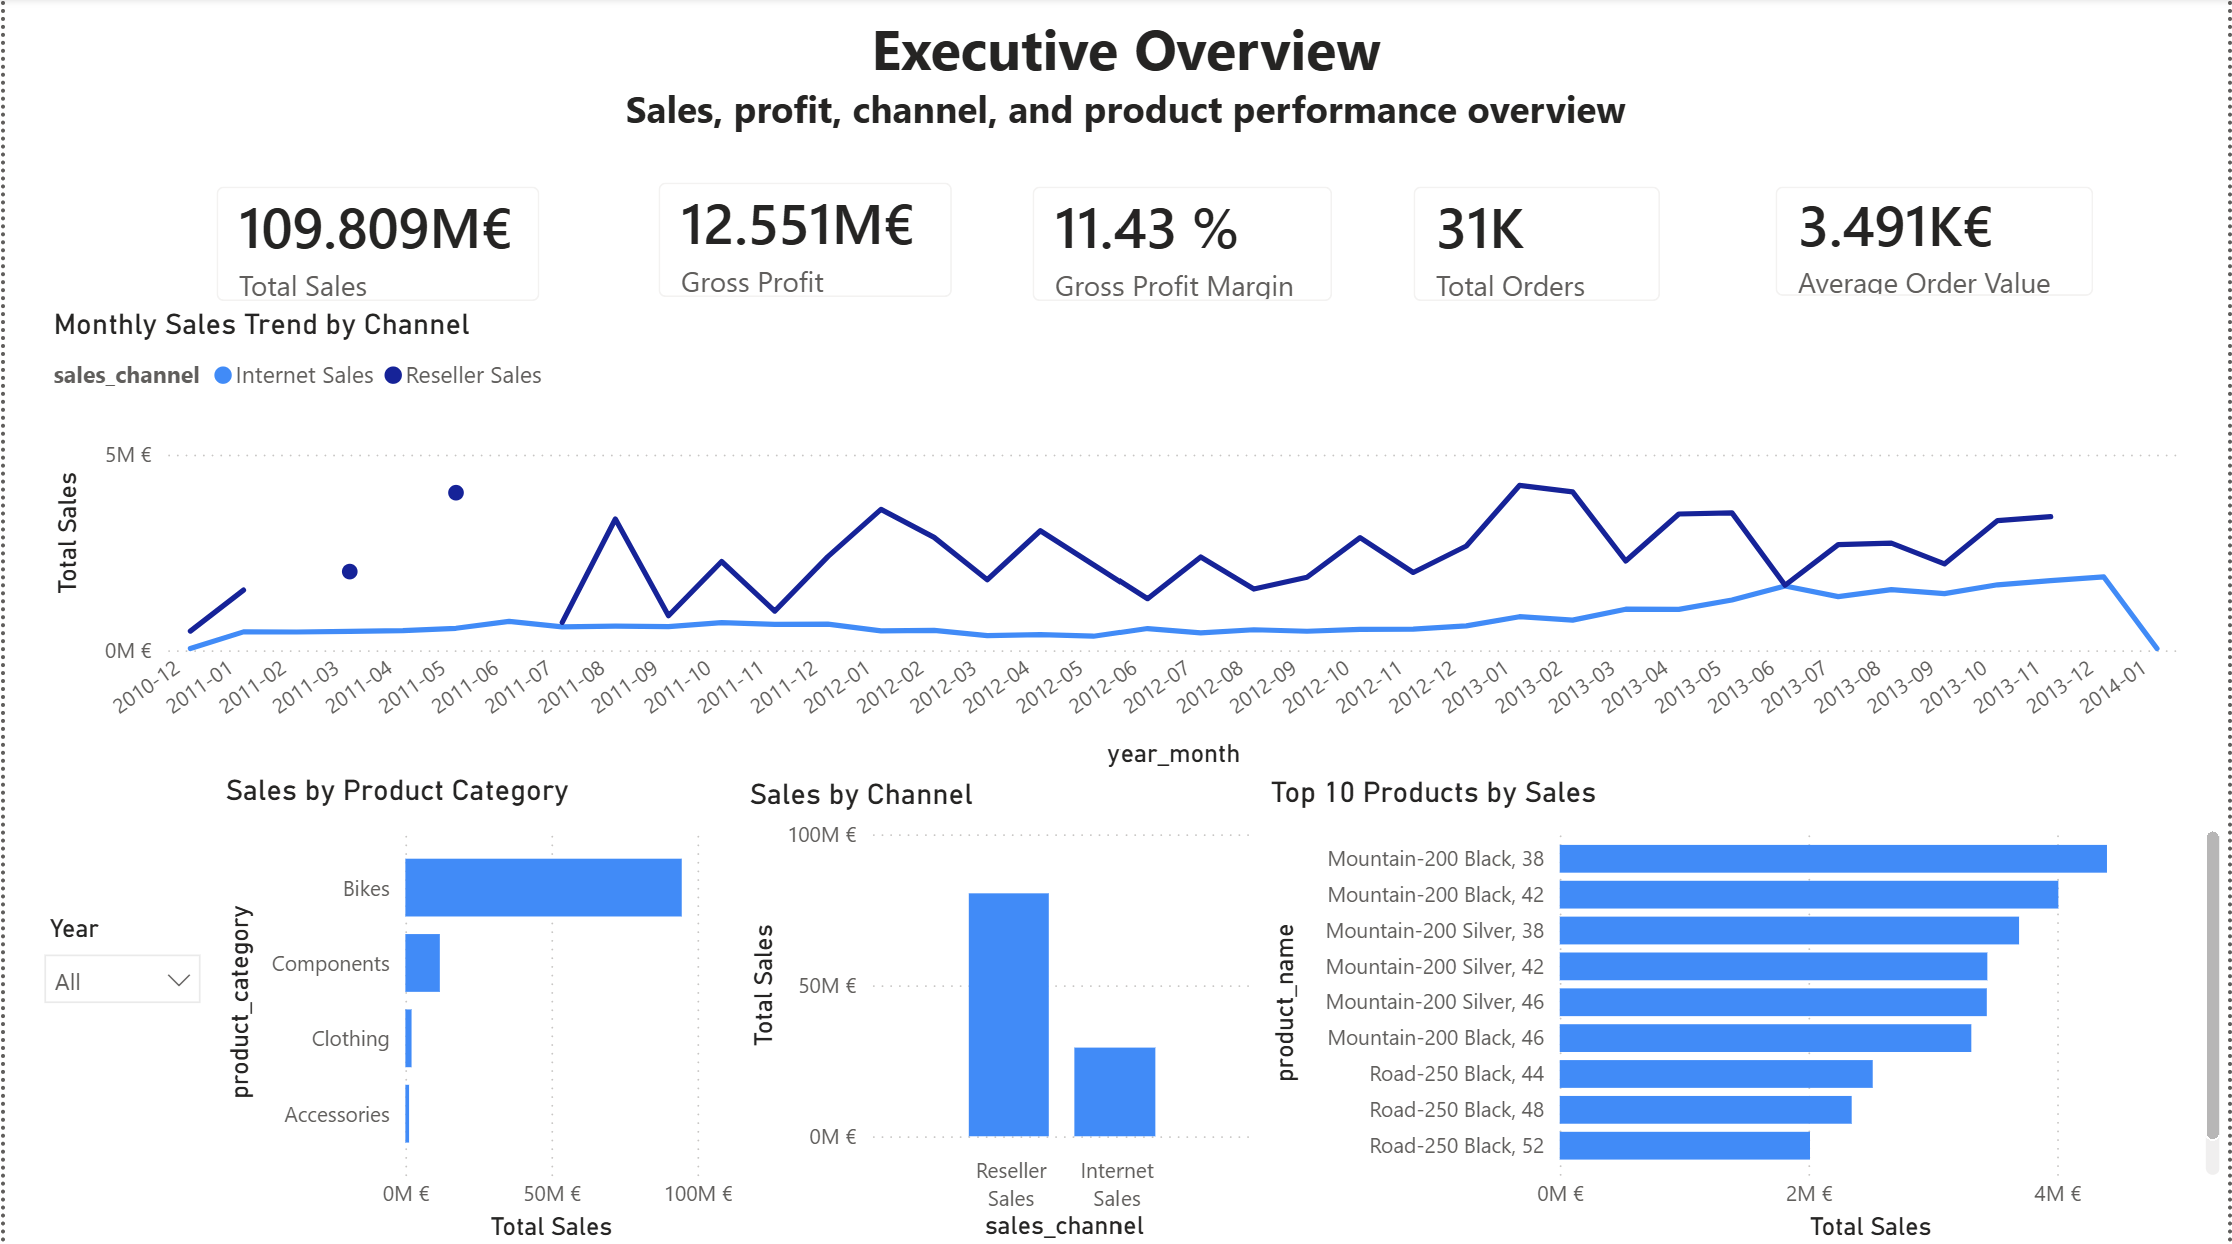

What the dashboard file says about the page in this screenshot:
{"tool":"powerbi","page":{"name":"Executive Overview","canvas":[1280,720],"ordinal":0},"visuals":[{"type":"cardVisual","fields":{"Data":["vw_fact_sales.Total Sales"]},"box":[104.7,92.3,220.5,100.6],"z":0},{"type":"cardVisual","fields":{"Data":["vw_fact_sales.Gross Profit"]},"box":[359.6,89.6,203.9,100.6],"z":1000},{"type":"cardVisual","fields":{"Data":["vw_fact_sales.Gross Profit Margin"]},"box":[574.6,92.3,206.7,100.6],"z":2000},{"type":"cardVisual","fields":{"Data":["vw_fact_sales.Average Order Value"]},"box":[1001.7,92.3,217.7,97.8],"z":3000},{"type":"cardVisual","fields":{"Data":["vw_fact_sales.Total Orders"]},"box":[793.6,92.3,176.4,100.6],"z":4000},{"type":"lineChart","title":"Monthly Sales Trend by Channel","fields":{"Y":["vw_fact_sales.Total Sales"],"Series":["vw_fact_sales.sales_channel"],"Category":["vw_dim_date.year_month"]},"box":[23.4,179.1,1233.2,270.1],"z":5000},{"type":"clusteredColumnChart","title":"Sales by Channel","fields":{"Category":["vw_fact_sales.sales_channel"],"Y":["vw_fact_sales.Total Sales"]},"box":[424.4,449.2,300.4,271.4],"z":6000},{"type":"slicer","fields":{"Values":["vw_dim_date.calendar_year"]},"box":[12.4,523.6,110.2,77.2],"z":7000},{"type":"clusteredBarChart","title":"Top 10 Products by Sales","fields":{"Category":["vw_dim_product.product_name"],"Y":["vw_fact_sales.Total Sales"]},"box":[723.4,447.8,556.6,272.8],"z":9000},{"type":"clusteredBarChart","title":"Sales by Product Category","fields":{"Category":["vw_dim_product.product_category"],"Y":["vw_fact_sales.Total Sales"]},"box":[122.6,446.4,301.7,274.2],"z":10000},{"type":"textbox","box":[214.9,2.8,859.8,89.6],"z":10001}]}

Visuals, with their boxes in screenshot pixels (x1, y1, x2, y2), scaled from the page's 1280x720 canvas onto the 2232x1244 screenshot:
cardVisual - vw_fact_sales.Total Sales: (left=183, top=159, right=567, bottom=333)
cardVisual - vw_fact_sales.Gross Profit: (left=627, top=155, right=983, bottom=329)
cardVisual - vw_fact_sales.Gross Profit Margin: (left=1002, top=159, right=1362, bottom=333)
cardVisual - vw_fact_sales.Average Order Value: (left=1747, top=159, right=2126, bottom=328)
cardVisual - vw_fact_sales.Total Orders: (left=1384, top=159, right=1691, bottom=333)
"Monthly Sales Trend by Channel" lineChart: (left=41, top=309, right=2191, bottom=776)
"Sales by Channel" clusteredColumnChart: (left=740, top=776, right=1264, bottom=1243)
slicer - vw_dim_date.calendar_year: (left=22, top=905, right=214, bottom=1038)
"Top 10 Products by Sales" clusteredBarChart: (left=1261, top=774, right=2231, bottom=1243)
"Sales by Product Category" clusteredBarChart: (left=214, top=771, right=740, bottom=1243)
textbox: (left=375, top=5, right=1874, bottom=160)
